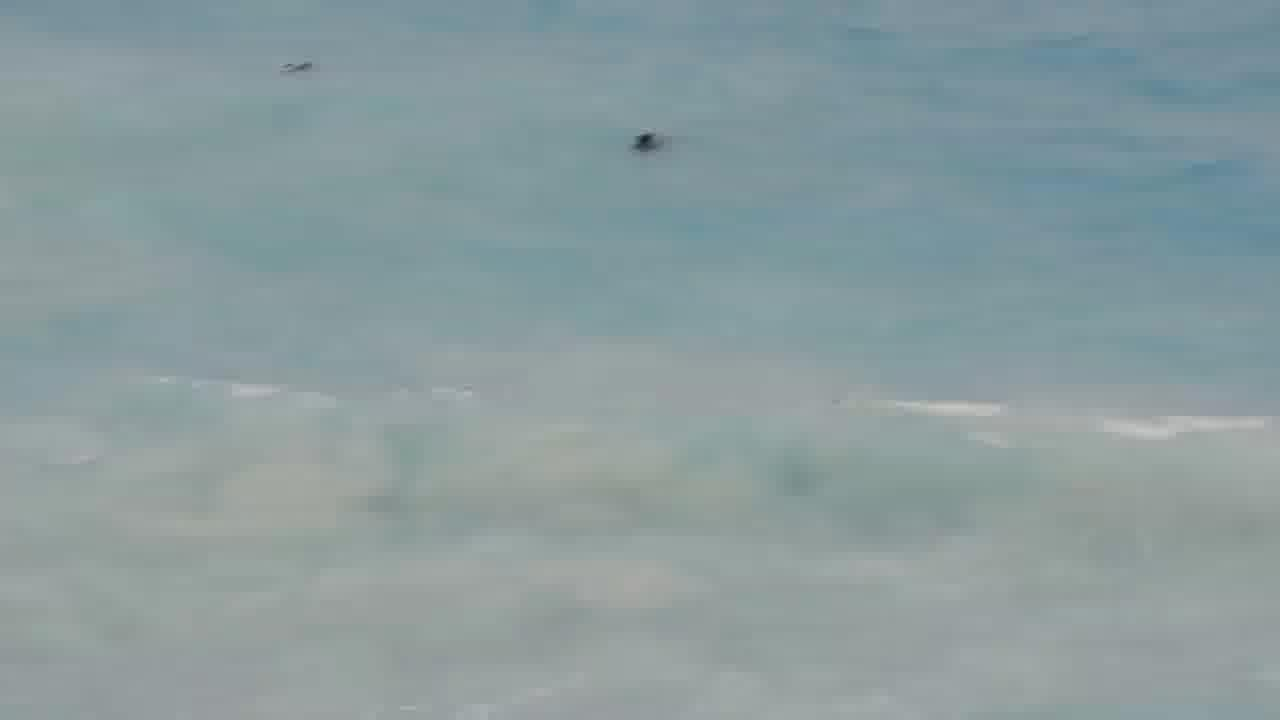swimmer: (624, 116, 670, 151)
